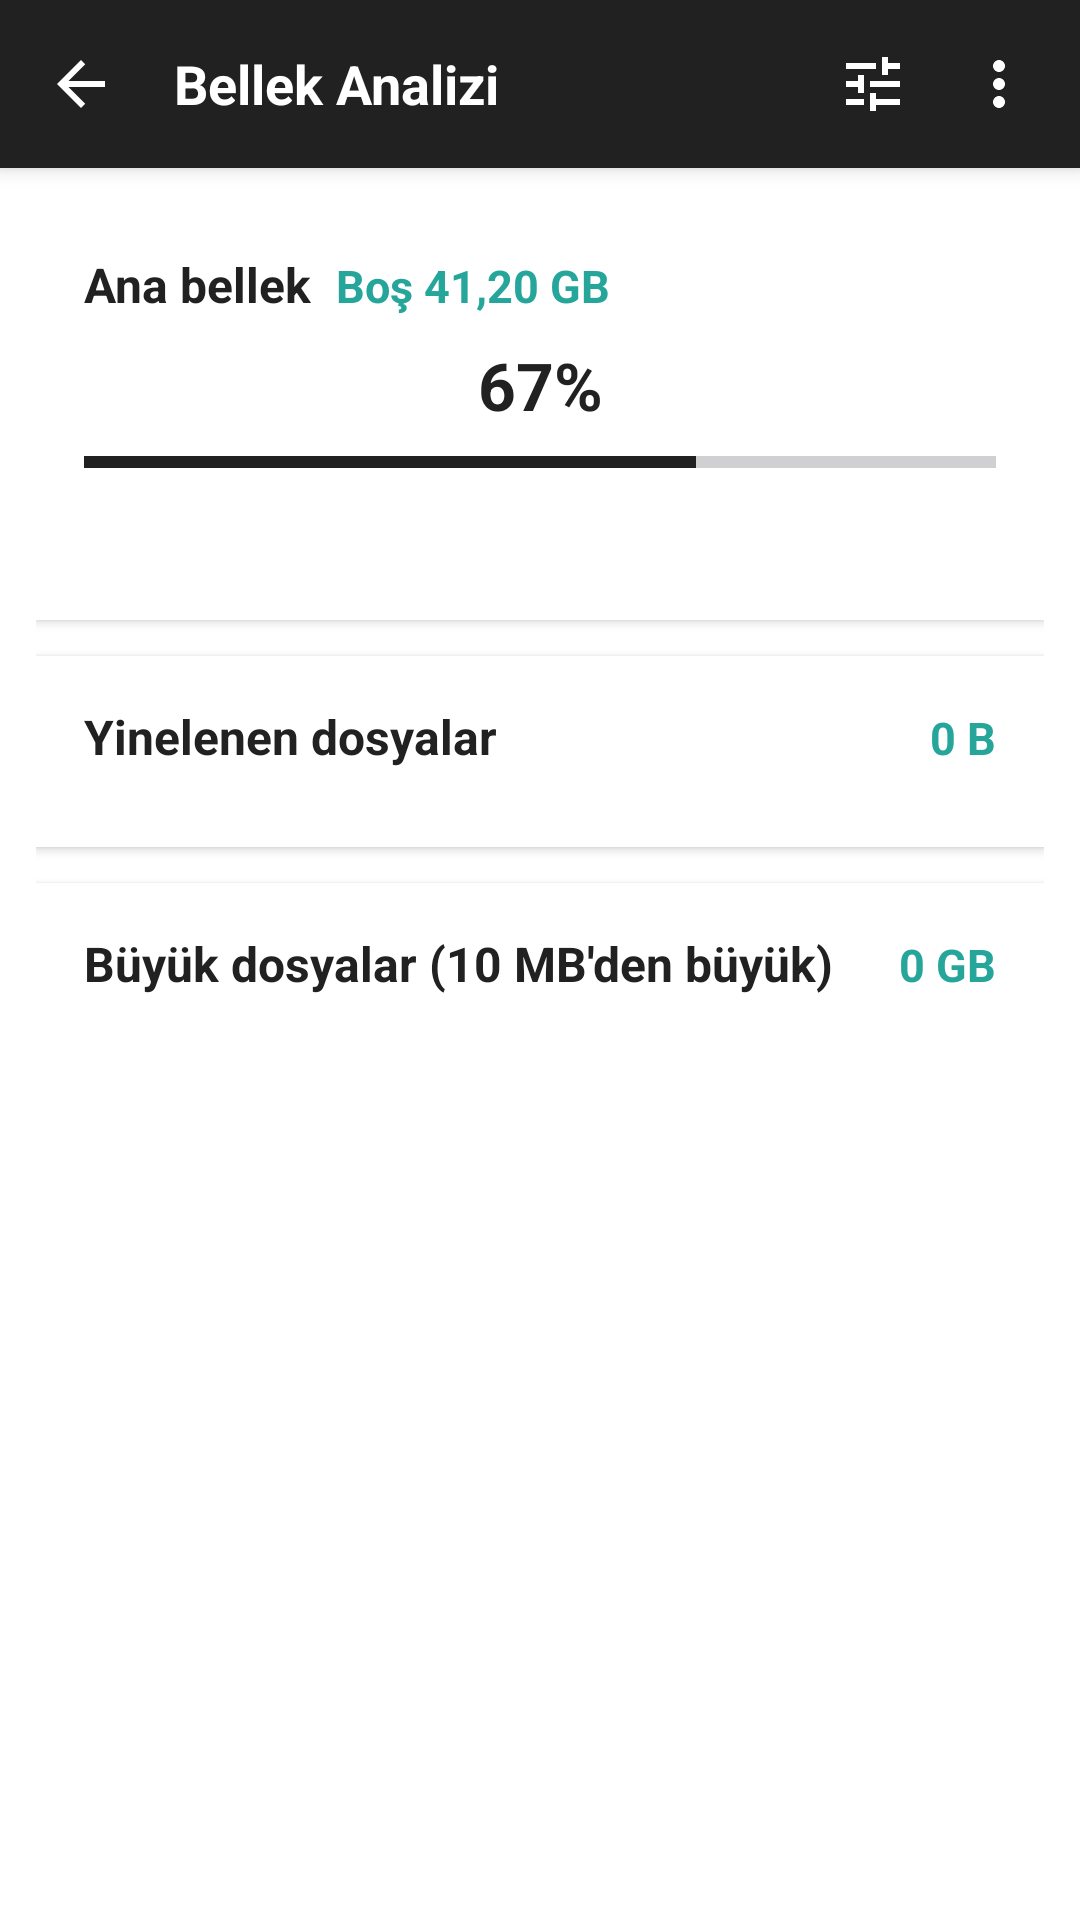

Named icons in this screenshot (1080 × 1920) and their bounding boxes, [x1=x1, y1=y1, x2=x2, y2=y2]:
arrow back: [x1=57, y1=60, x2=105, y2=108]
more vert: [x1=993, y1=60, x2=1005, y2=108]
Sırala ve Gizli Dosyalar: [x1=846, y1=57, x2=900, y2=111]
